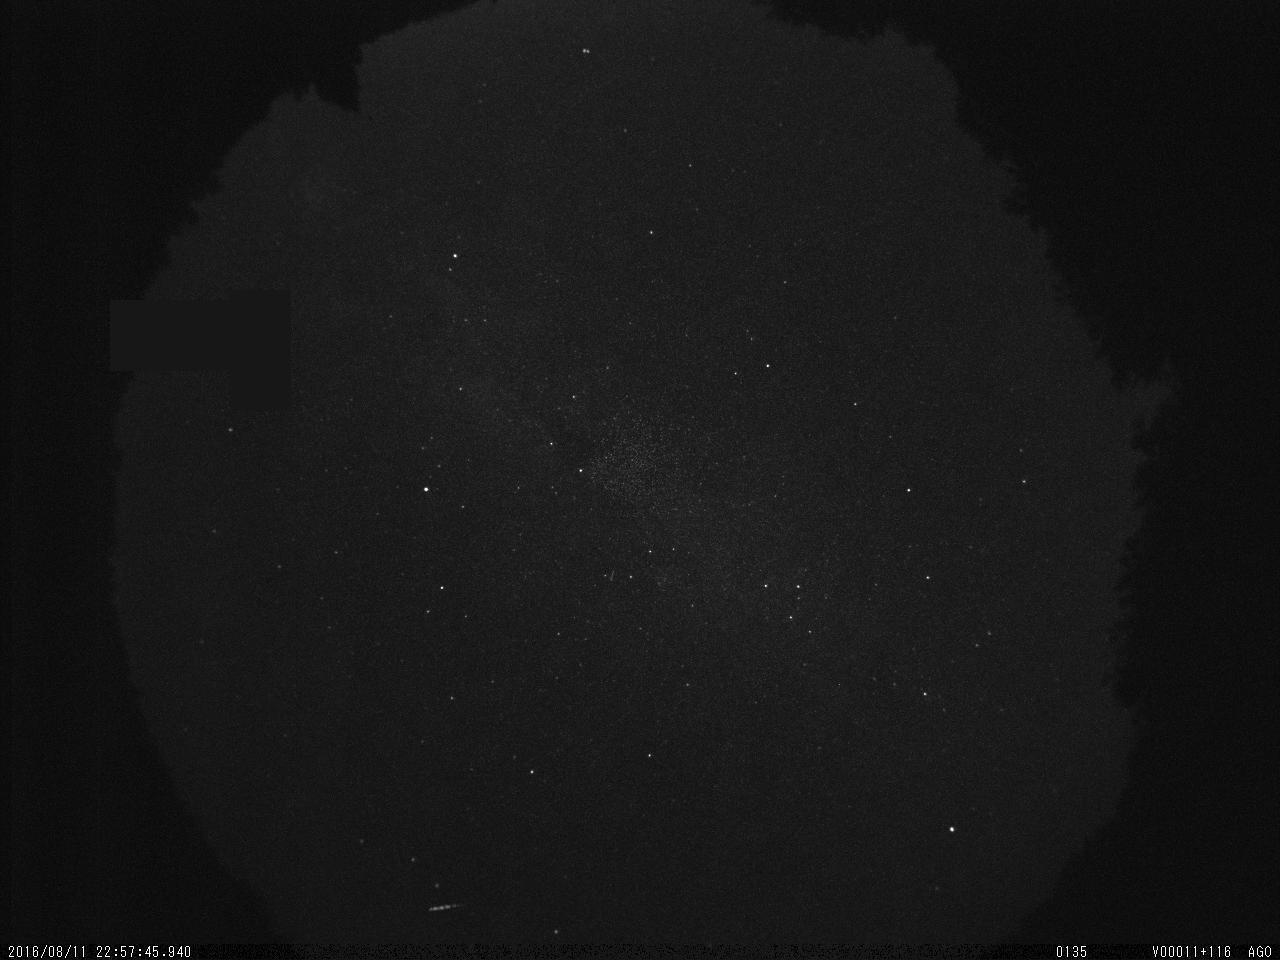Meteor: (420, 896, 474, 922)
